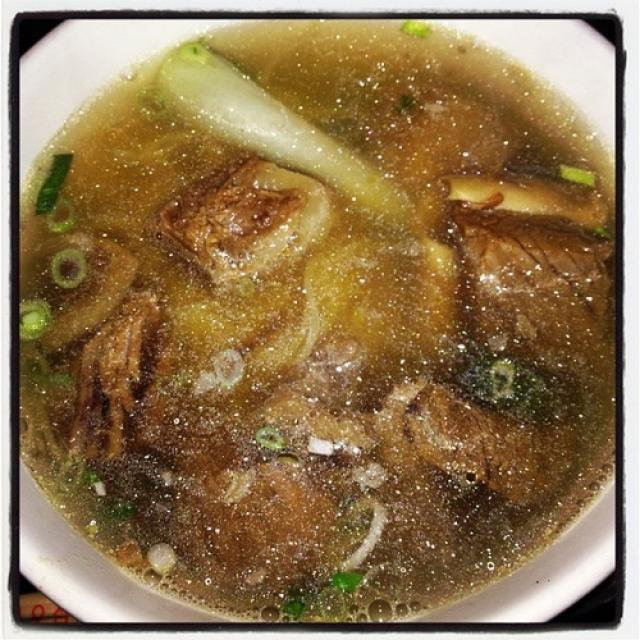面条主食: (37, 45, 602, 621)
